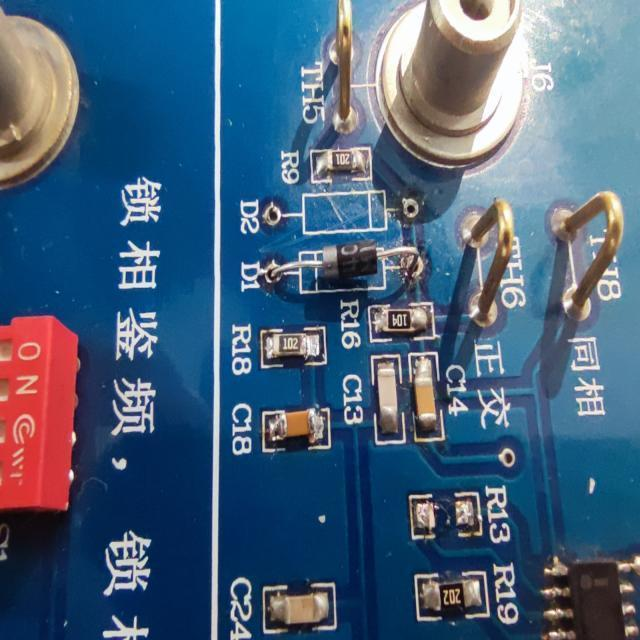Missing component: (234, 178, 434, 241), (400, 480, 520, 552)
